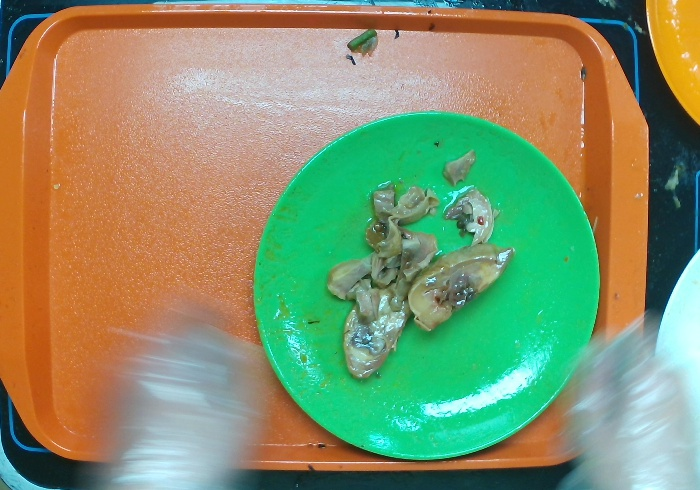HZYJPL-Lv_Se_Yuan_Pan: (247, 104, 605, 467)
